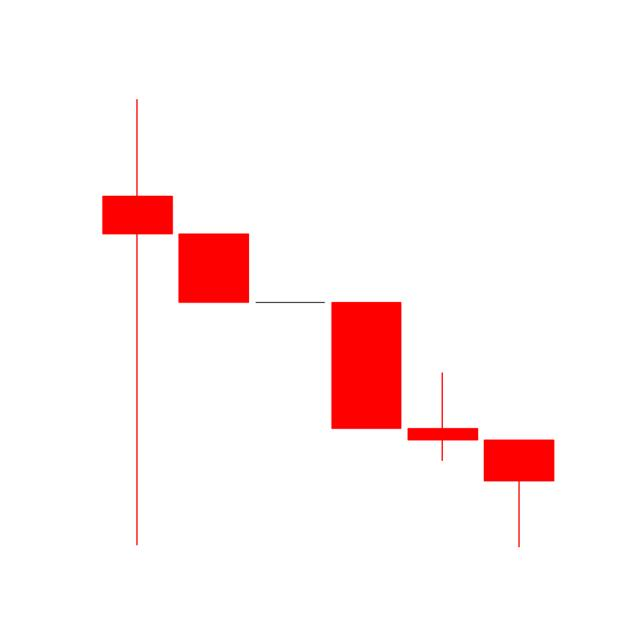Bearish Marubozu: (330, 299, 401, 429), (178, 230, 252, 306)
Dragonfly Doji: (99, 95, 174, 547)
Four price doji: (255, 301, 327, 304)
Gravenstone Doji: (408, 370, 480, 462)
